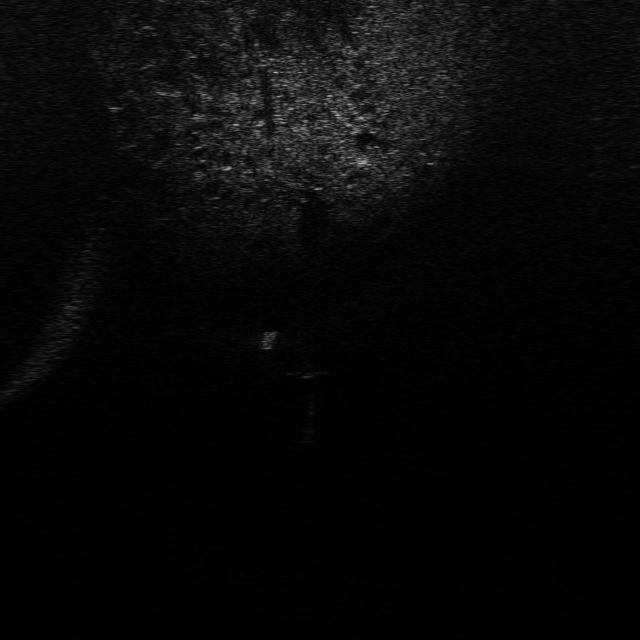cube: (286, 356, 330, 384)
cylinder: (256, 328, 280, 354)
